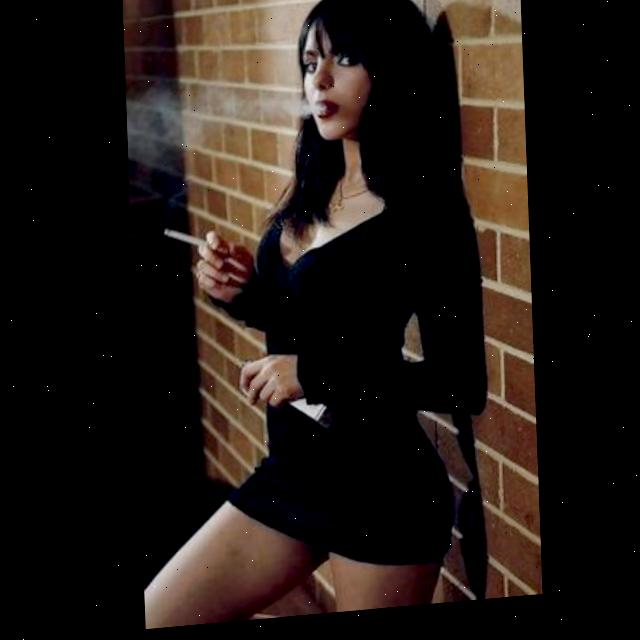cigarette: (162, 229, 201, 253)
